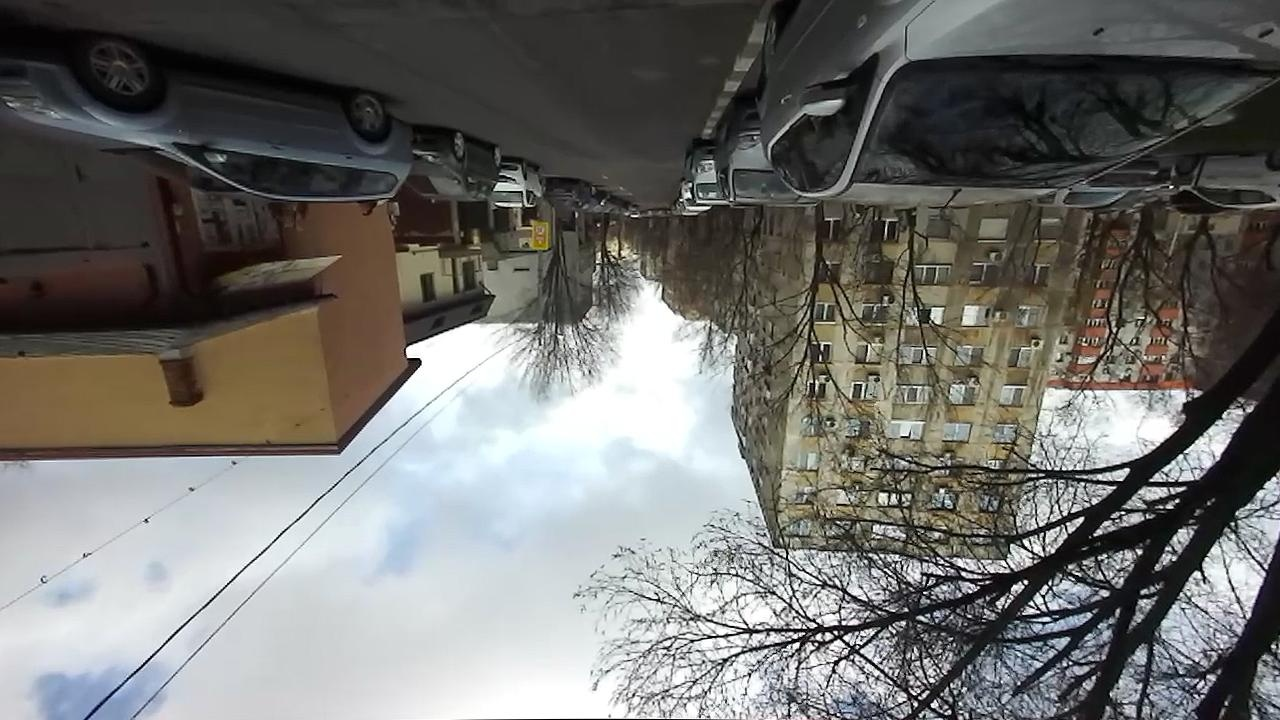pothole: (586, 0, 668, 15)
